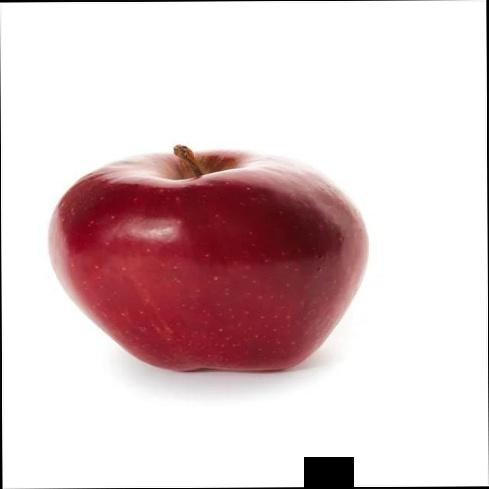red apple: (39, 142, 375, 376)
